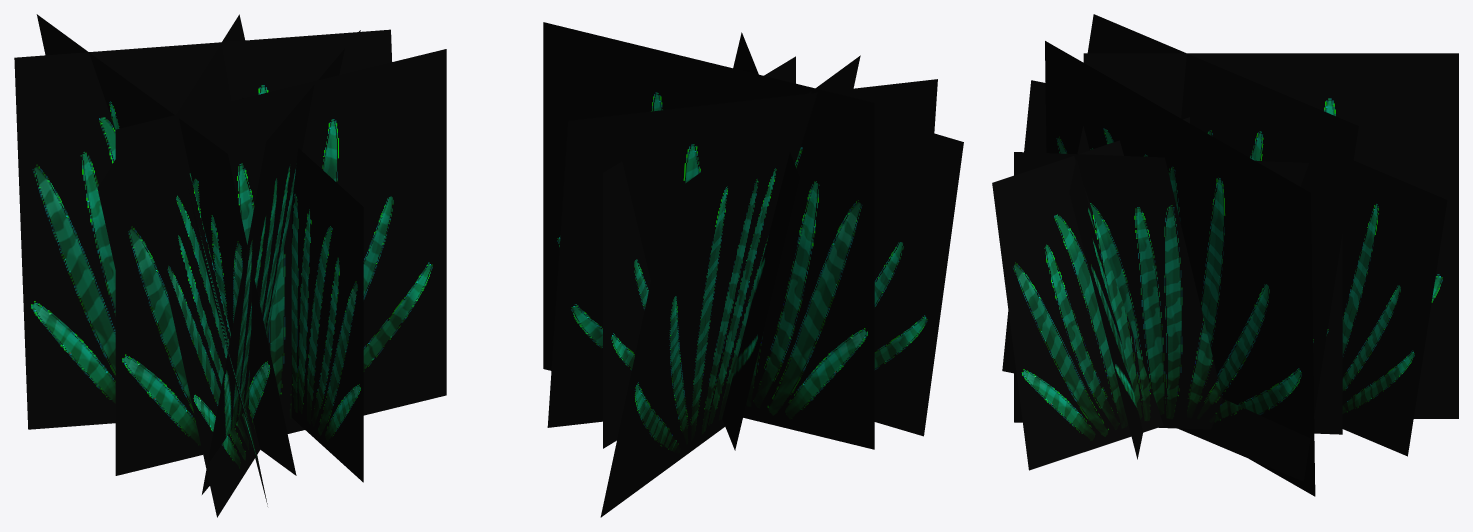
The model's file is vegetation-bush02.glb.
The picture shows the model from 3 angles, left to right: view 1: azimuth 30°, elevation 25°; view 2: azimuth 150°, elevation 25°; view 3: azimuth 270°, elevation 25°; orthographic projection. The views are drawn at different scales.
Size of the model in its own units: 0.5715 by 0.5531 by 0.6221.
1 material, 1 textured.
